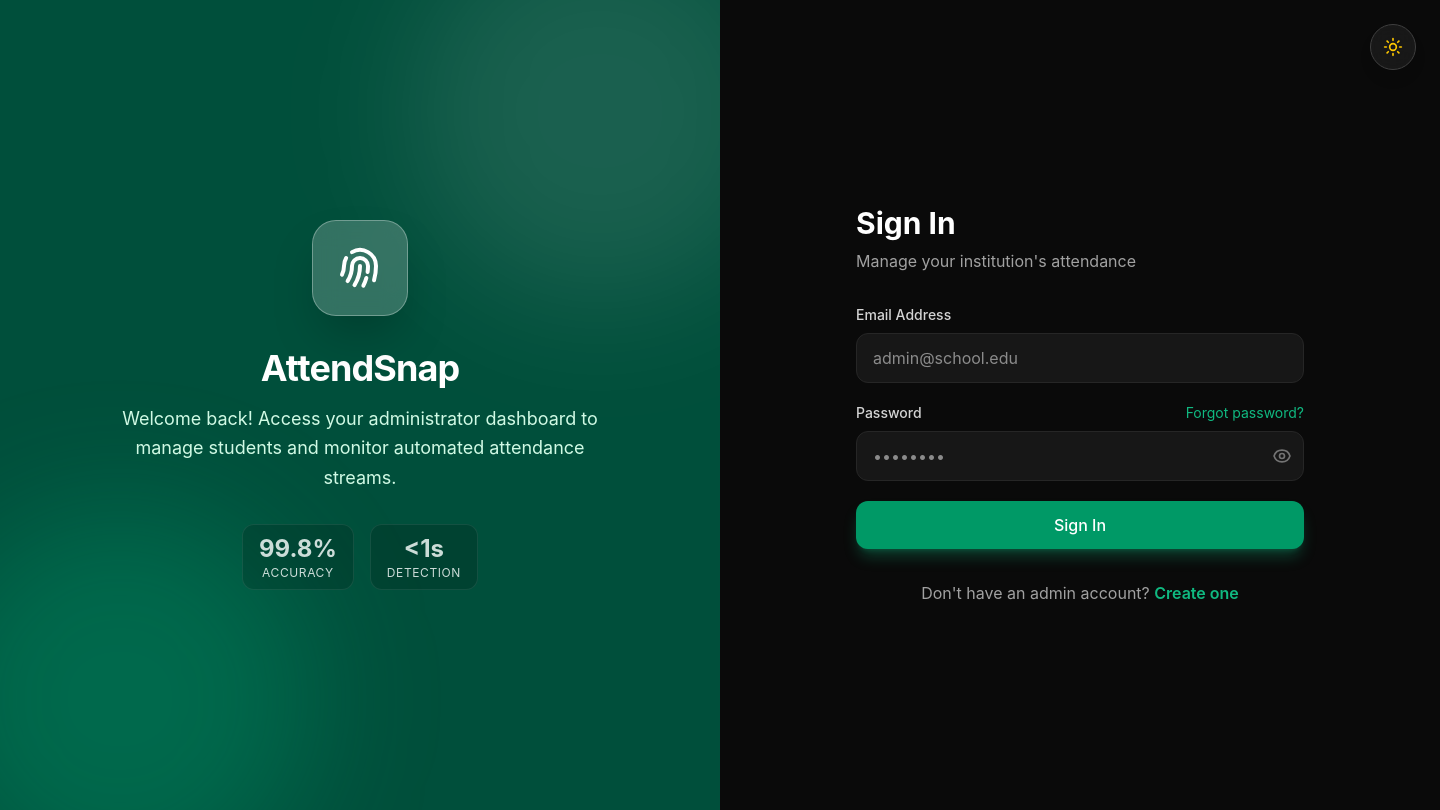
it: AdminAuth — Login Form › network error shows generic error
Type "admin@test.com" into the field labelled "Email Address" at (1080, 358), box top-left (856, 333), bottom-right (1304, 383)
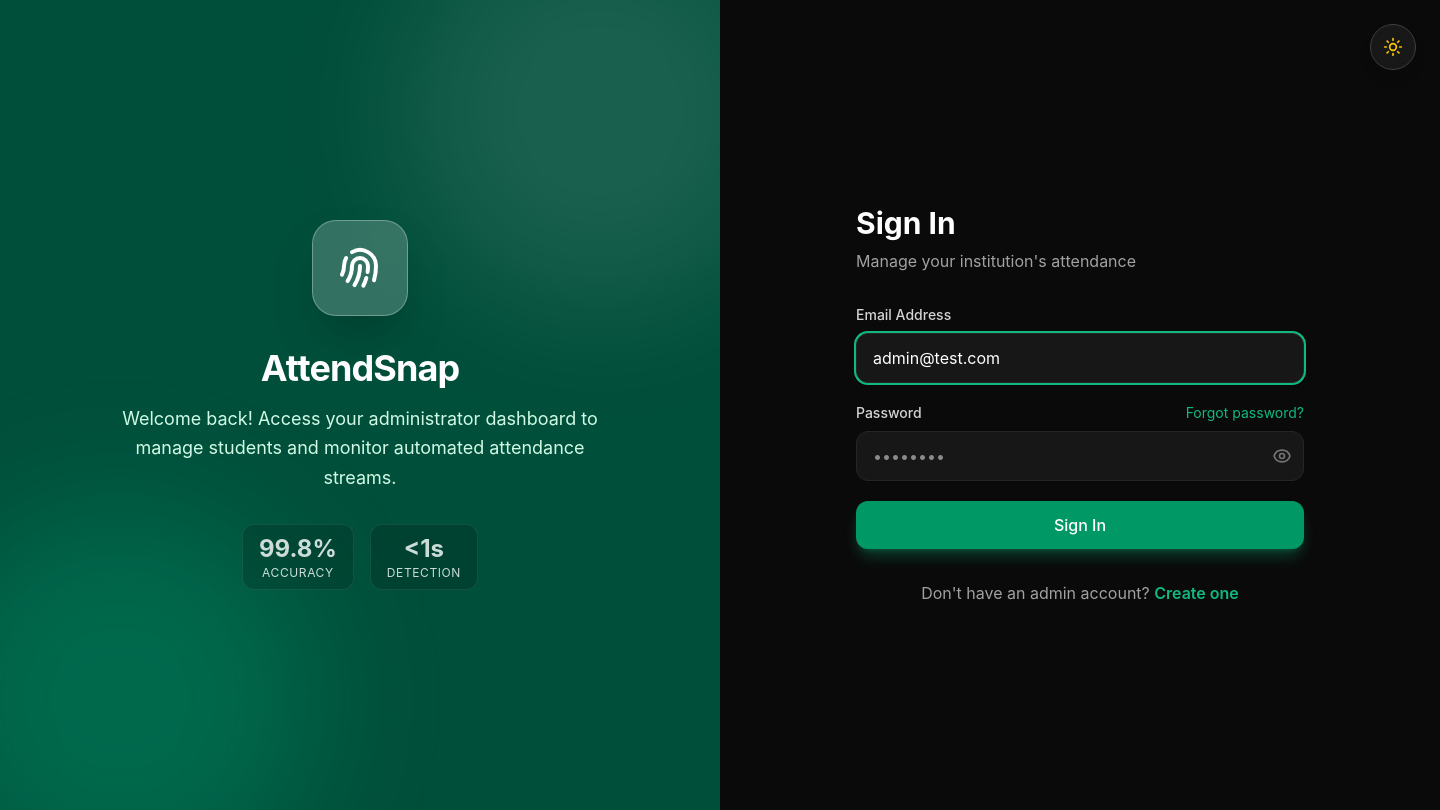
Type "pass" into the password field with placeholder "••••••••" at (1080, 456), box top-left (856, 431), bottom-right (1304, 481)
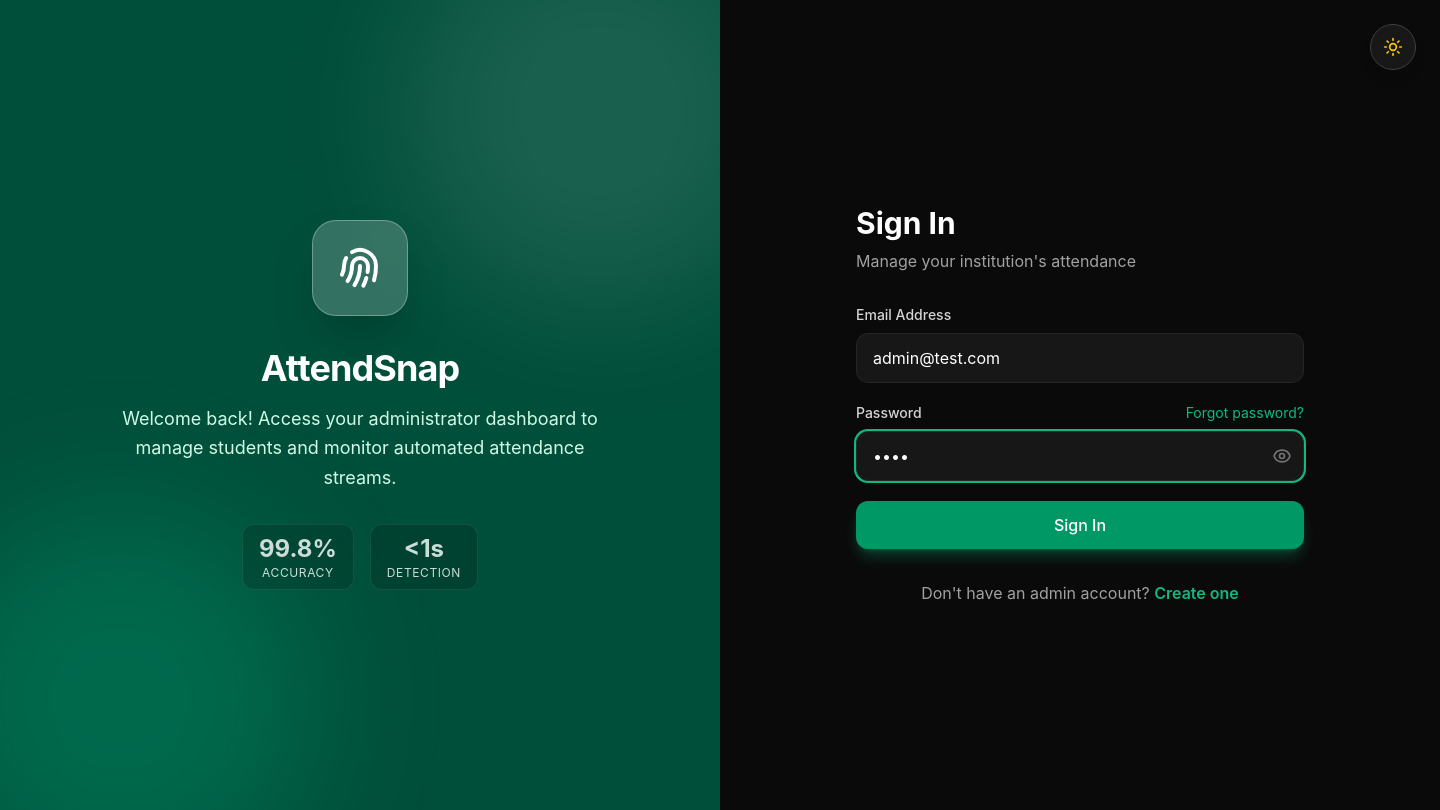
Click the button "Sign In" at (1080, 525), box top-left (856, 501), bottom-right (1304, 549)
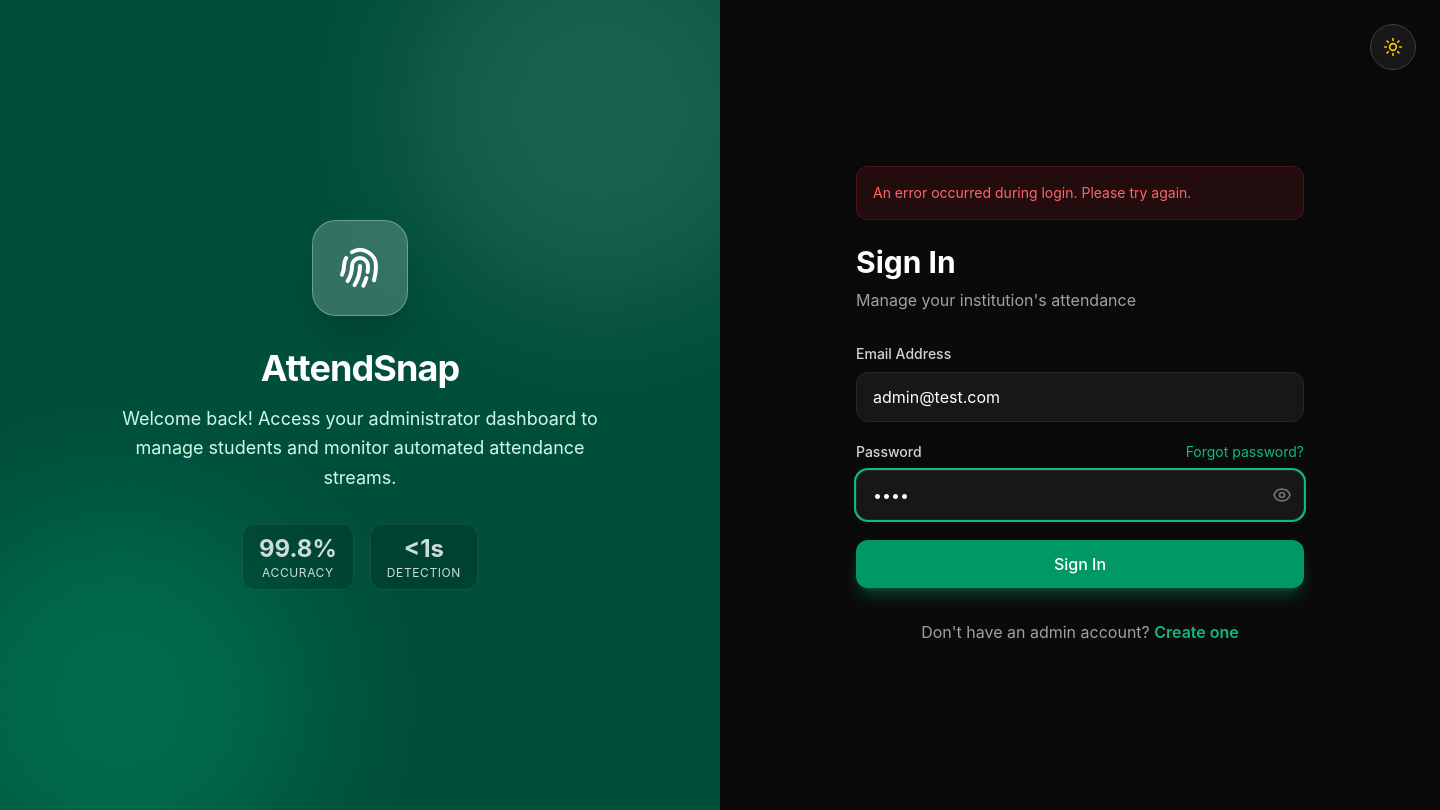
Now the text "An error occurred during login. Please try again." is shown, box top-left (856, 166), bottom-right (1304, 220)
